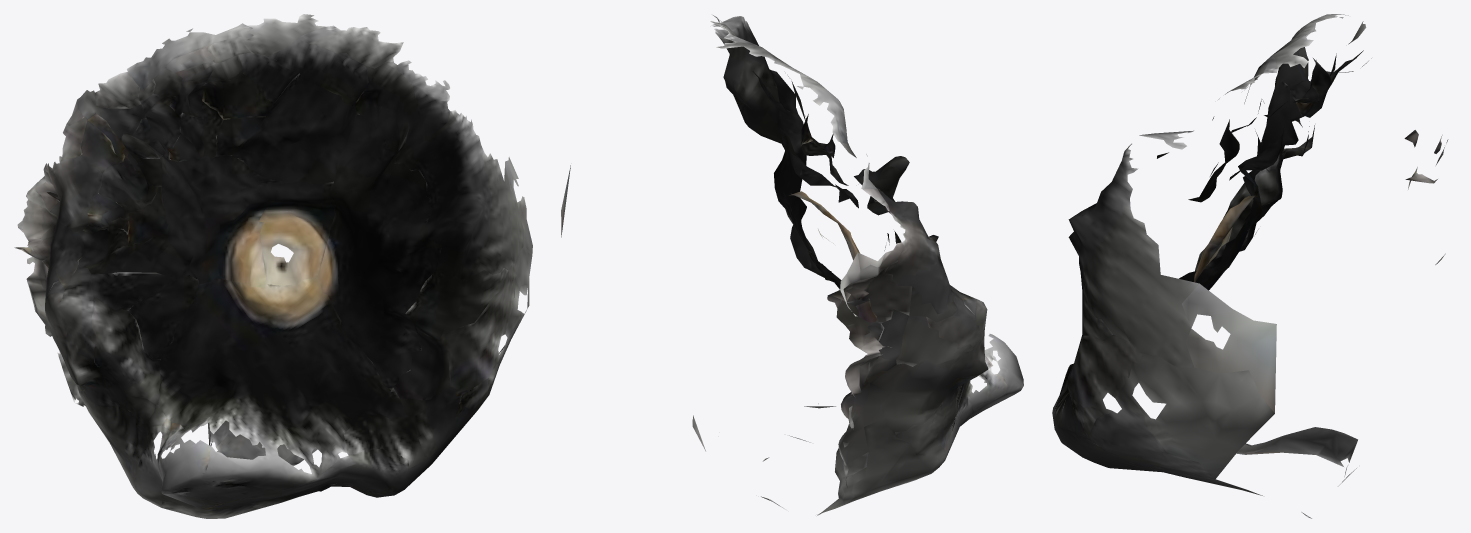
The model's file is hall.glb.
3 views of the same model, side by side, from view 1: azimuth 30°, elevation 25°; view 2: azimuth 150°, elevation 25°; view 3: azimuth 270°, elevation 25° (orthographic). The views are drawn at different scales.
Bounding box in the file's own units: 1.07 × 1.02 × 0.8024.
1 material, 1 textured.
